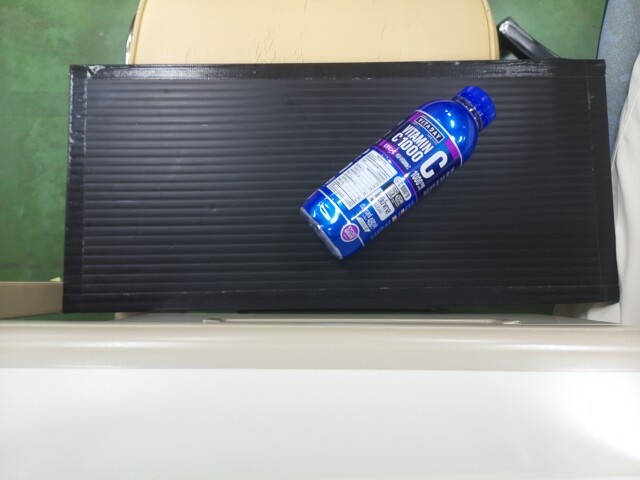plastic_bottle: (299, 84, 495, 257)
